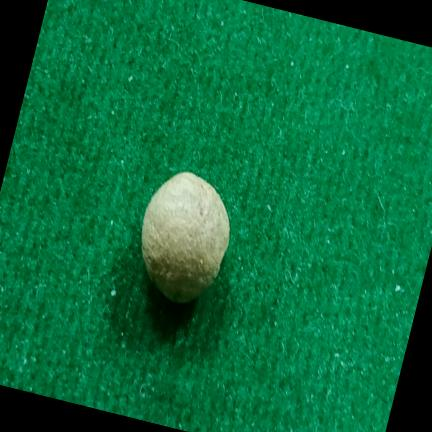cut: (141, 172, 229, 303)
